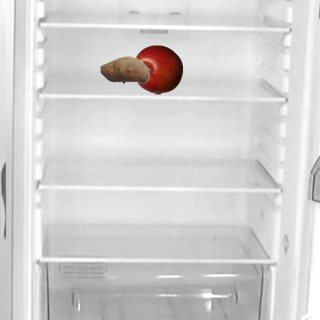Apple Braeburn: (132, 44, 182, 94)
Potato Sweet: (99, 44, 149, 94)
